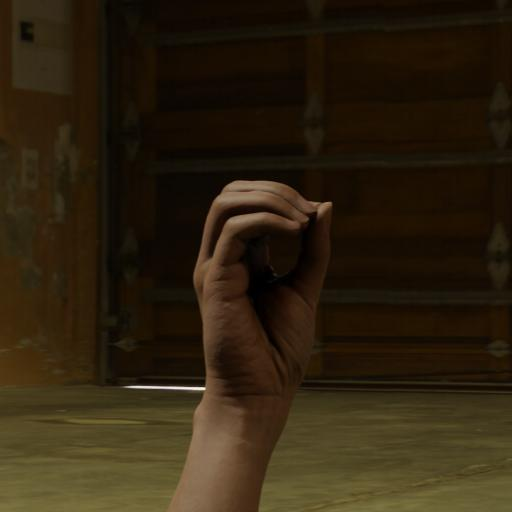O: (185, 173, 338, 395)
